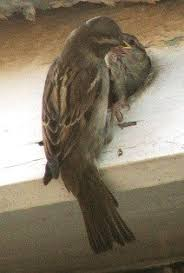hsparrow: (35, 10, 141, 245)
